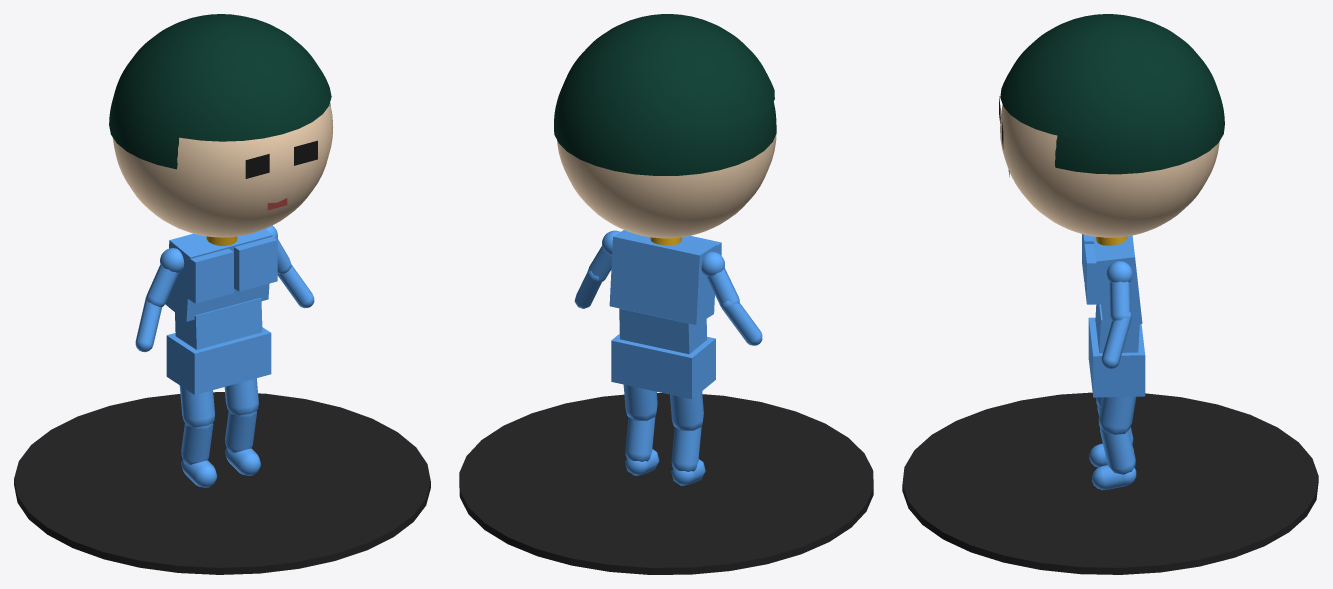
The model's file is player.gltf.
3 renders of one model, left to right at view 1: azimuth 30°, elevation 25°; view 2: azimuth 150°, elevation 25°; view 3: azimuth 270°, elevation 25°, orthographic.
Bounding box in the file's own units: 3.2 × 3.92 × 3.2.
